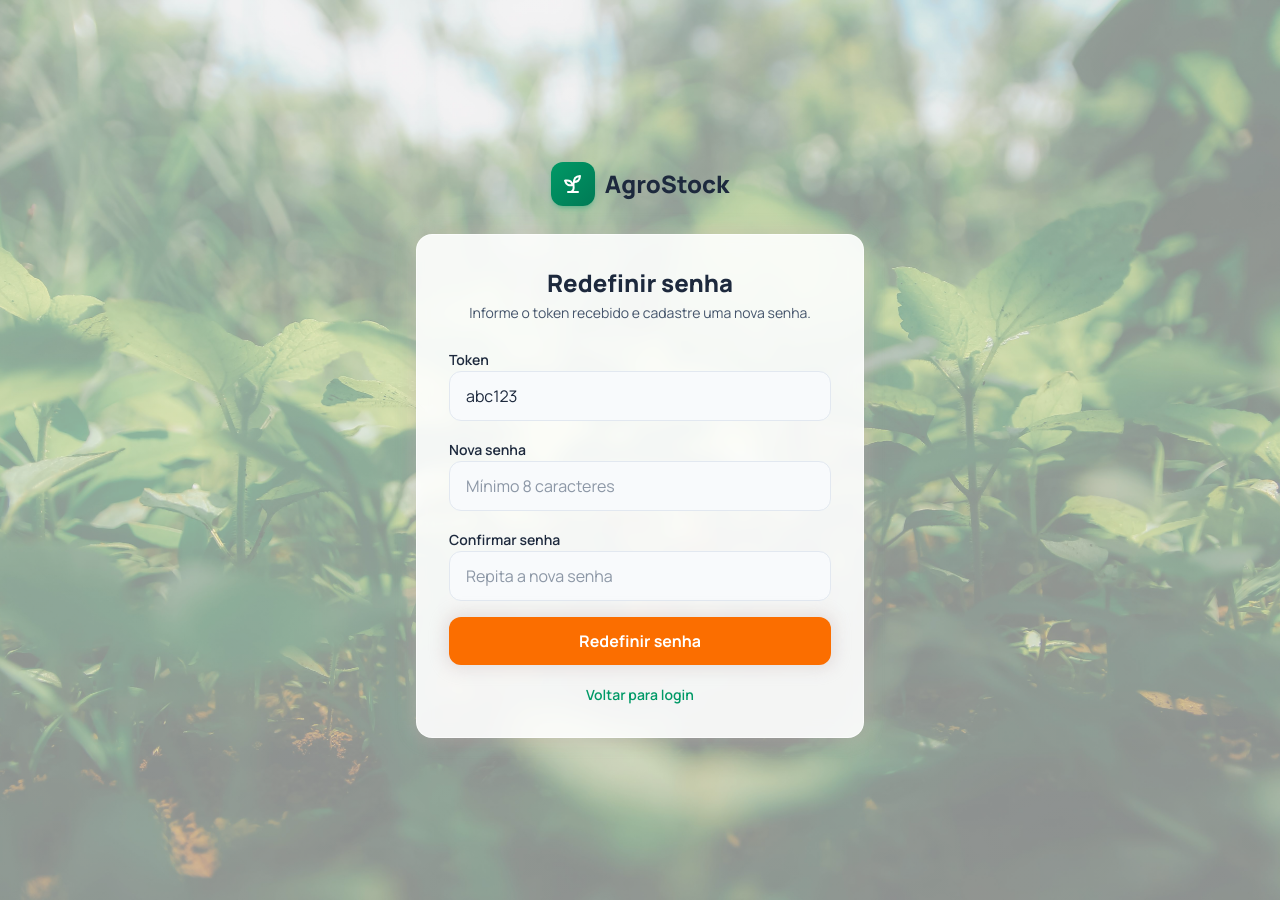
Recuperação de senha › F21 token inválido/expirado mostra o erro da API
Type "NovaSenha456" into the password field labelled "Nova senha".
click(640, 486); type("NovaSenha456")  # box top-left (449, 461), bottom-right (831, 511)
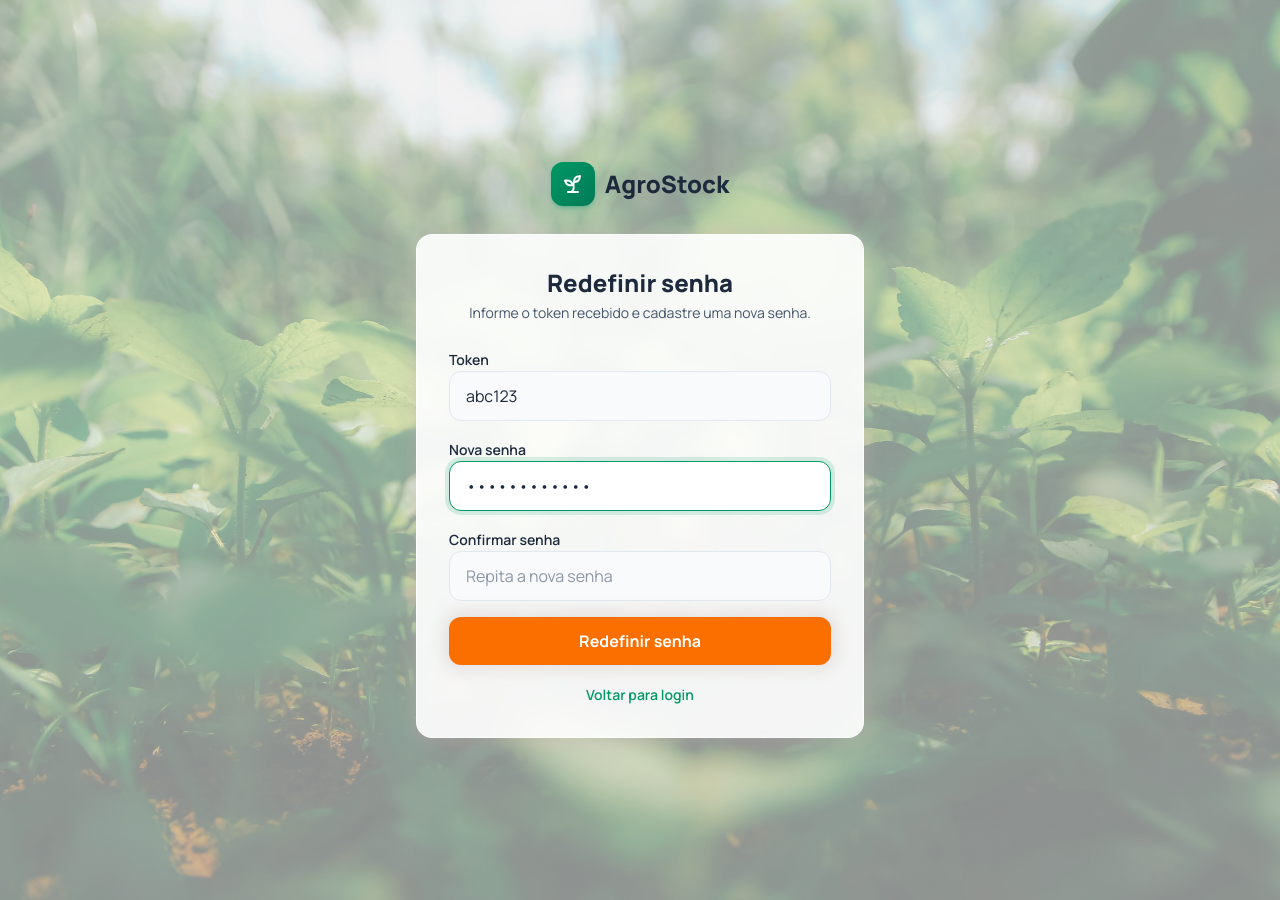
Type "NovaSenha456" into the password field labelled "Confirmar senha".
click(640, 576); type("NovaSenha456")  # box top-left (449, 551), bottom-right (831, 601)
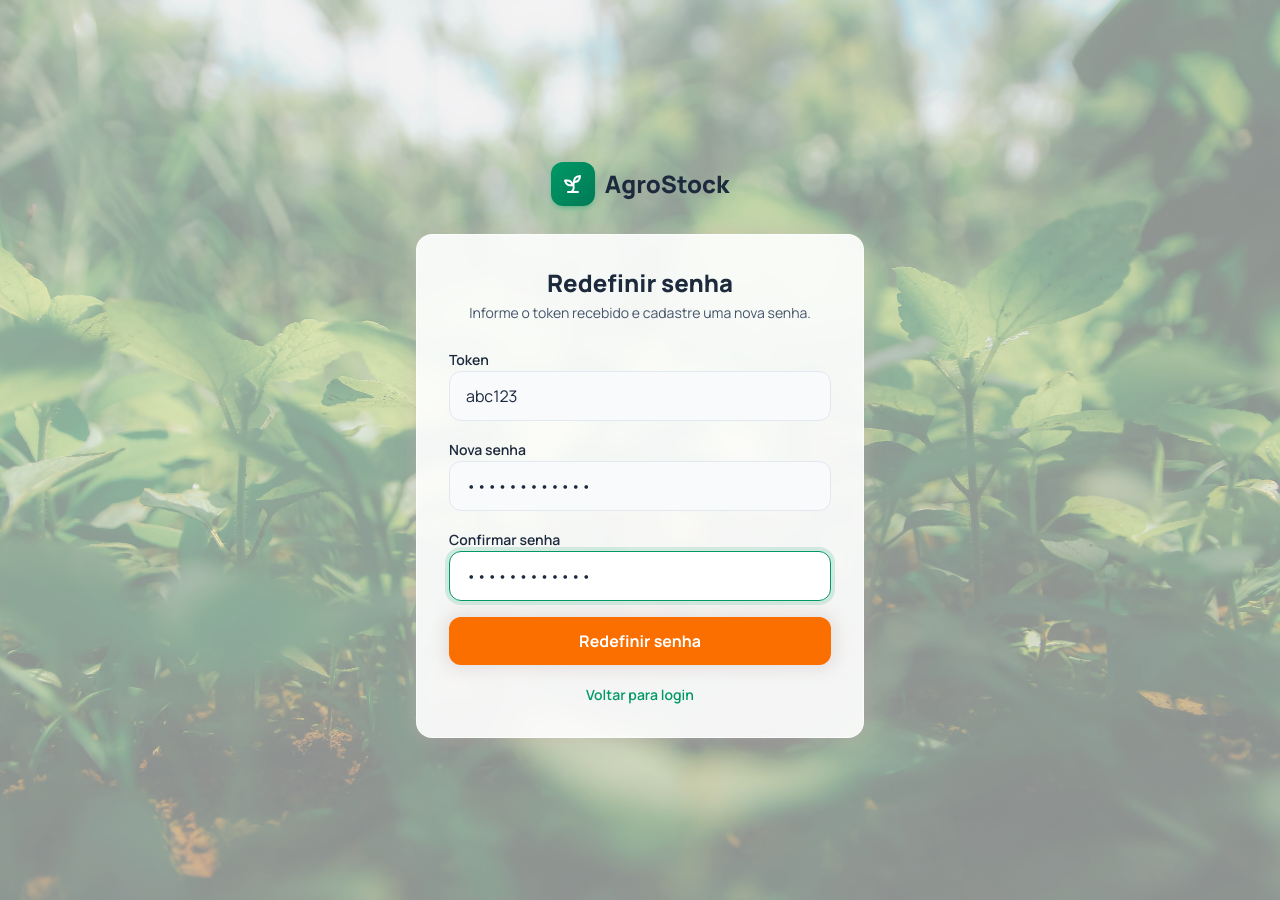
Click the button "Redefinir senha".
click(640, 641)  # box top-left (449, 617), bottom-right (831, 665)
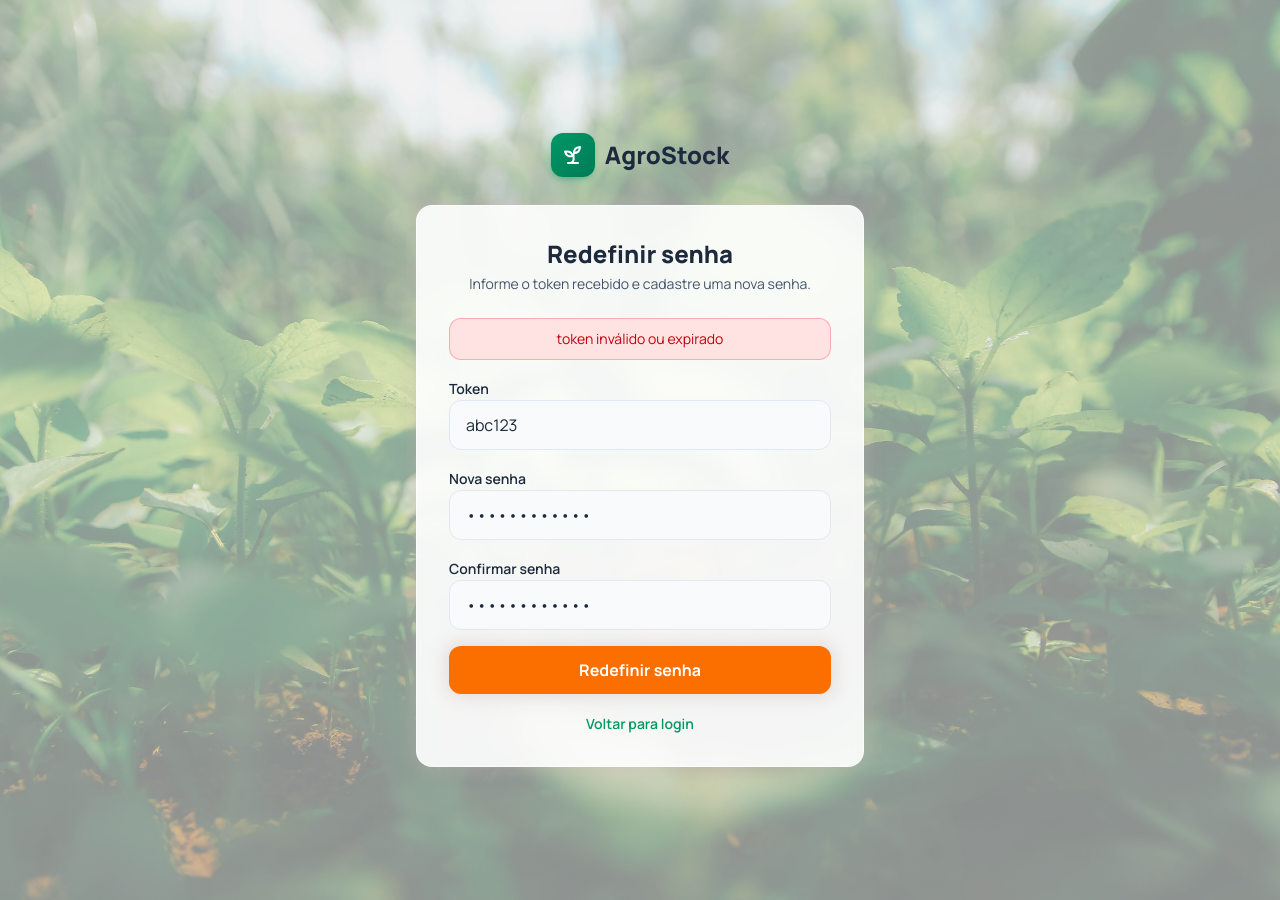
Now the text "token inválido ou expirado" is shown, box top-left (449, 318), bottom-right (831, 360)
